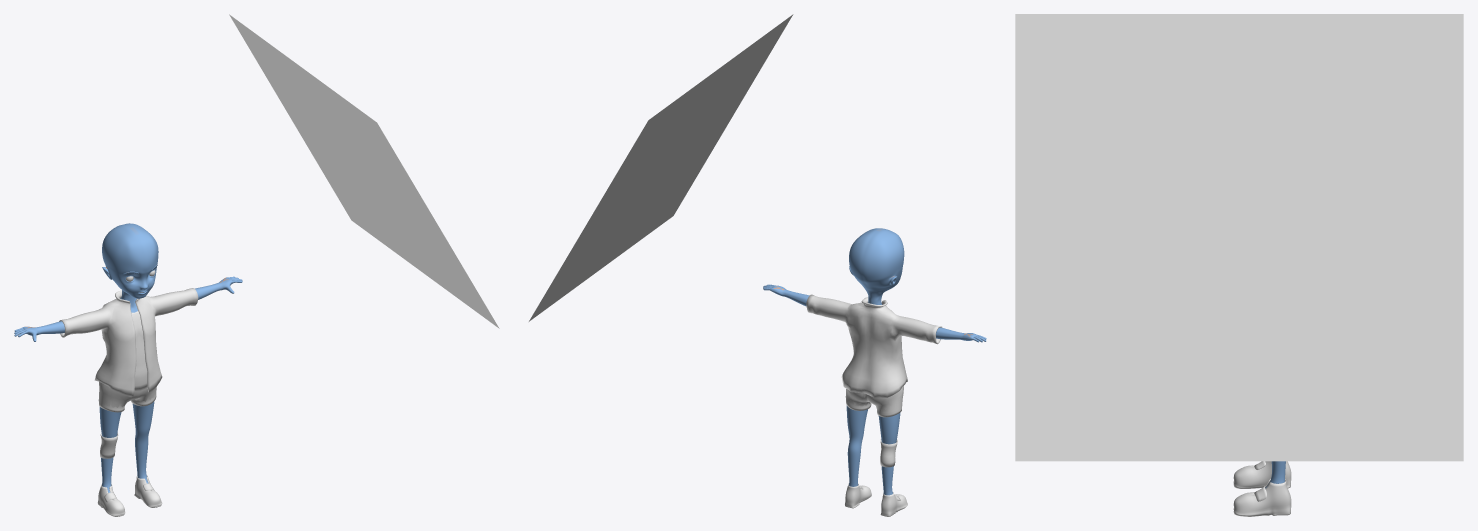
The model's file is anime.fbx.
The picture shows the model from 3 angles, left to right: view 1: azimuth 30°, elevation 25°; view 2: azimuth 150°, elevation 25°; view 3: azimuth 270°, elevation 25°; orthographic projection. The views are drawn at different scales.
Visible parts, largest first — view 1: Plane, anime boy hair, jacket, shoe, inner wear, inner pant; view 2: Plane, jacket, anime boy hair, shoe, inner pant; view 3: Plane, shoe.
Part boxes in pixels (x1=…): Plane: x1=229, y1=14, x2=499, y2=328; anime boy hair: x1=14, y1=223, x2=242, y2=492; jacket: x1=59, y1=288, x2=198, y2=397; shoe: x1=97, y1=475, x2=162, y2=516; inner wear: x1=131, y1=311, x2=147, y2=391; inner pant: x1=98, y1=381, x2=156, y2=407; Plane: x1=529, y1=14, x2=793, y2=321; jacket: x1=806, y1=294, x2=942, y2=397; anime boy hair: x1=763, y1=228, x2=986, y2=495; shoe: x1=845, y1=483, x2=907, y2=516; inner pant: x1=845, y1=385, x2=903, y2=412; Plane: x1=1015, y1=14, x2=1463, y2=461; shoe: x1=1233, y1=461, x2=1291, y2=516.
Bounding box in the file's own units: 279 × 266 × 178.
